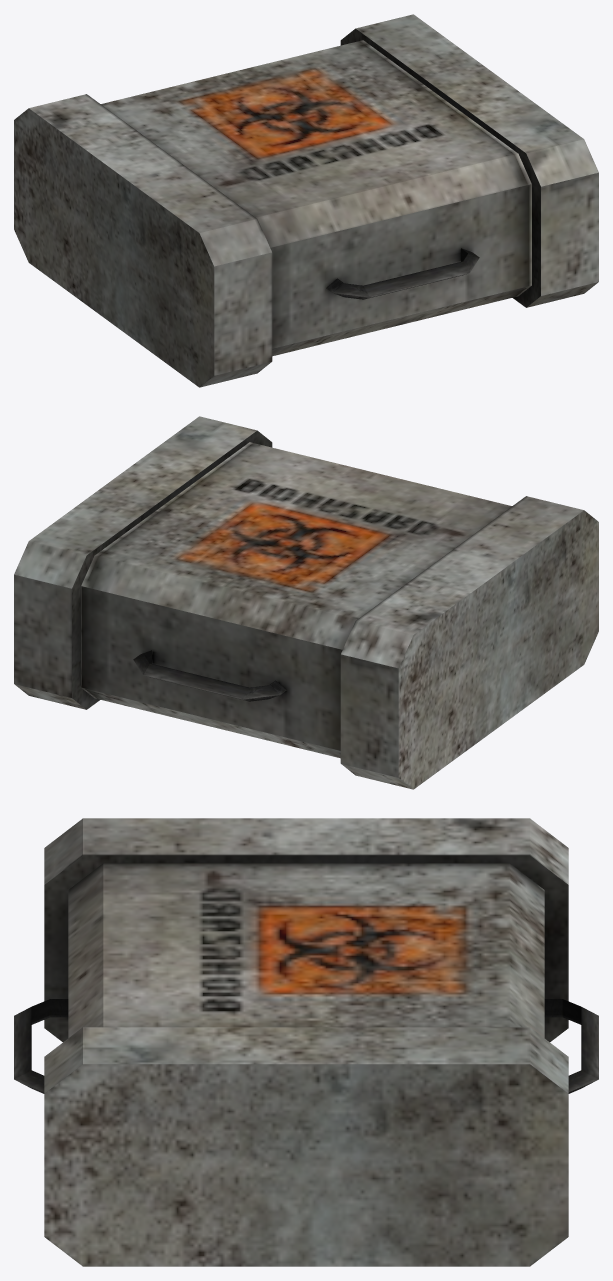
File: CubeBaseFrontBox.fbx
The picture shows the model from 3 angles, top to bottom: view 1: azimuth 30°, elevation 25°; view 2: azimuth 150°, elevation 25°; view 3: azimuth 270°, elevation 25°; orthographic projection. The views are drawn at different scales.
Visible parts, largest first — view 1: Box01, Duplicate02; view 2: Box01, Cylinder01; view 3: Box01, Cylinder01, Duplicate02.
Part boxes in pixels (bbox=[...]): Box01: bbox=[14, 14, 598, 387]; Duplicate02: bbox=[326, 248, 479, 299]; Box01: bbox=[14, 416, 598, 789]; Cylinder01: bbox=[133, 650, 286, 701]; Box01: bbox=[44, 818, 568, 1266]; Cylinder01: bbox=[544, 999, 598, 1093]; Duplicate02: bbox=[14, 999, 68, 1093].
Bounding box in the file's own units: 1.01 × 0.3871 × 1.01.
Materials: 1 (1 with a texture image).
